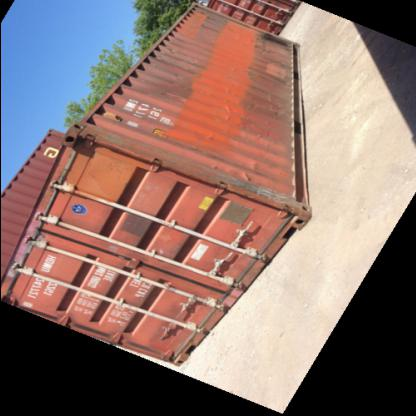Damage: (154, 47, 204, 107), (216, 164, 294, 202), (74, 150, 132, 198), (244, 61, 287, 121), (250, 35, 292, 57), (237, 126, 279, 146), (190, 10, 224, 32), (216, 99, 234, 127), (195, 134, 216, 146)
